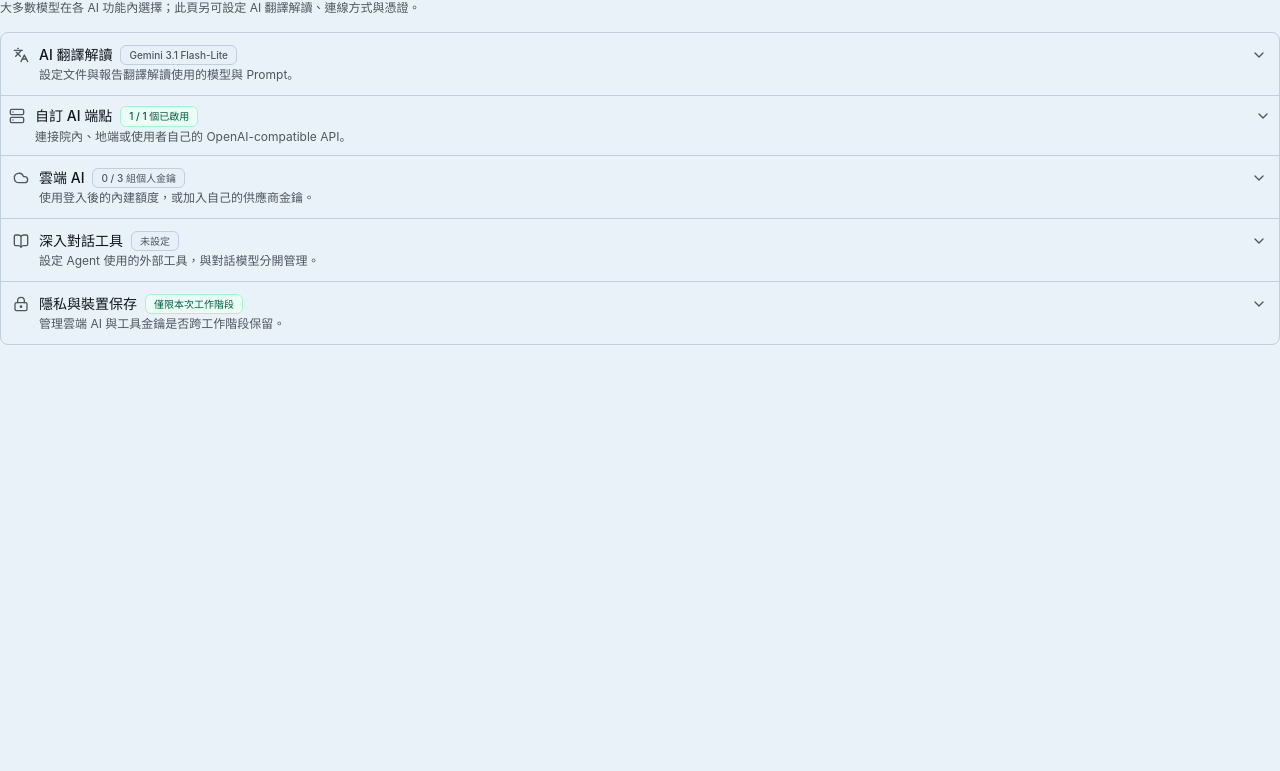
Test: ModelAndKeySettings progressive disclosure › keeps the saved Agent result when a new check is inconclusive
Click the button "自訂 AI 端點 1 / 1 個已啟用 連接院內、地端或使用者自己的 OpenAI-compatible API。": (74, 116) x1=9 y1=96 x2=1271 y2=155
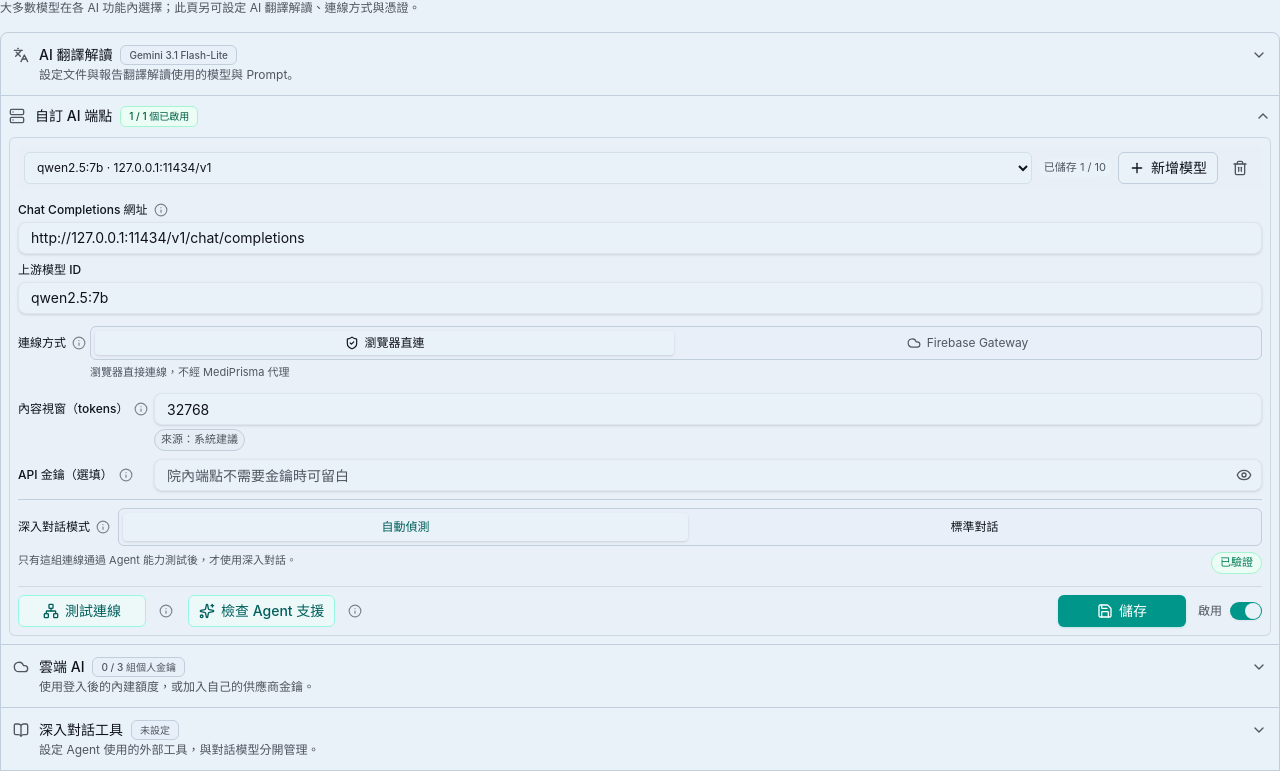
Click the button "檢查 Agent 支援": (262, 611) x1=188 y1=595 x2=335 y2=627
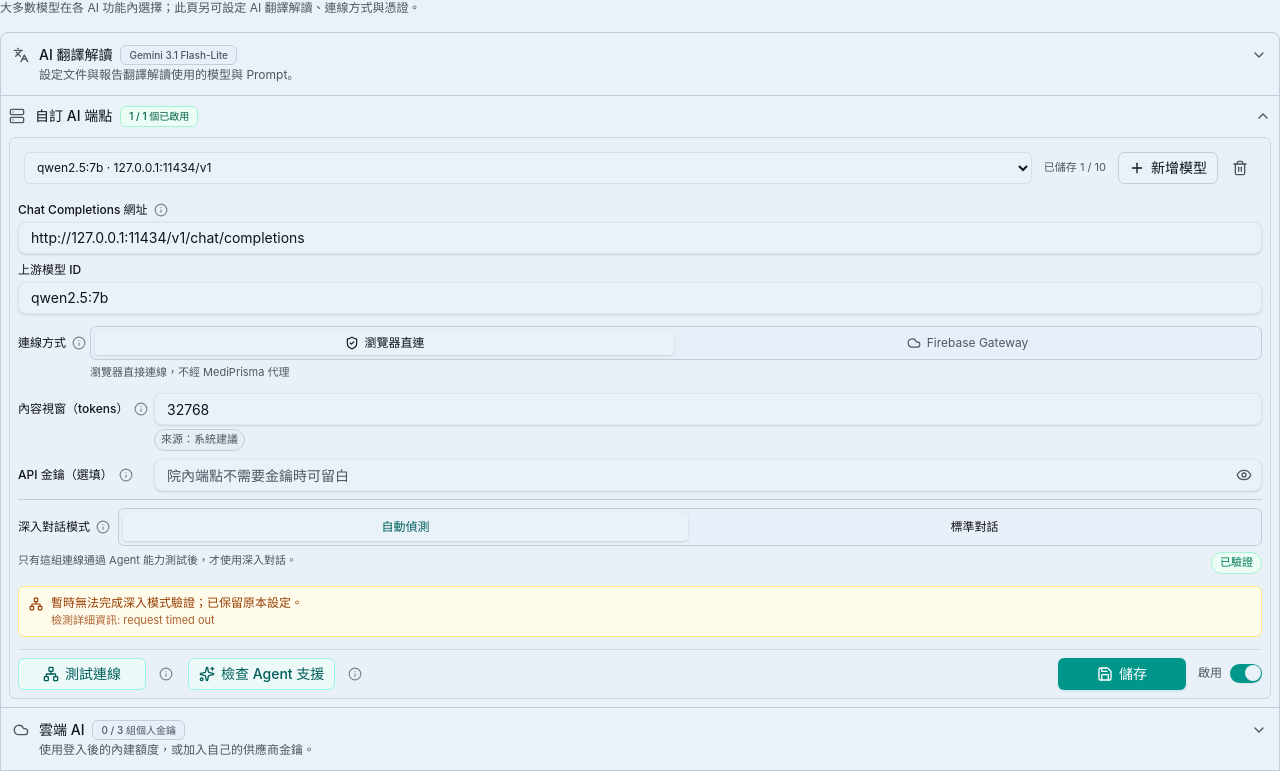
Expected: the text named "Agent 能力: 已驗證" is shown, x1=1211 y1=552 x2=1262 y2=574
Expected: the text "暫時無法完成深入模式驗證；已保留原本設定。" is shown, x1=51 y1=595 x2=303 y2=610
Expected: the text "檢測詳細資訊: request timed out" is shown, x1=51 y1=613 x2=215 y2=627
